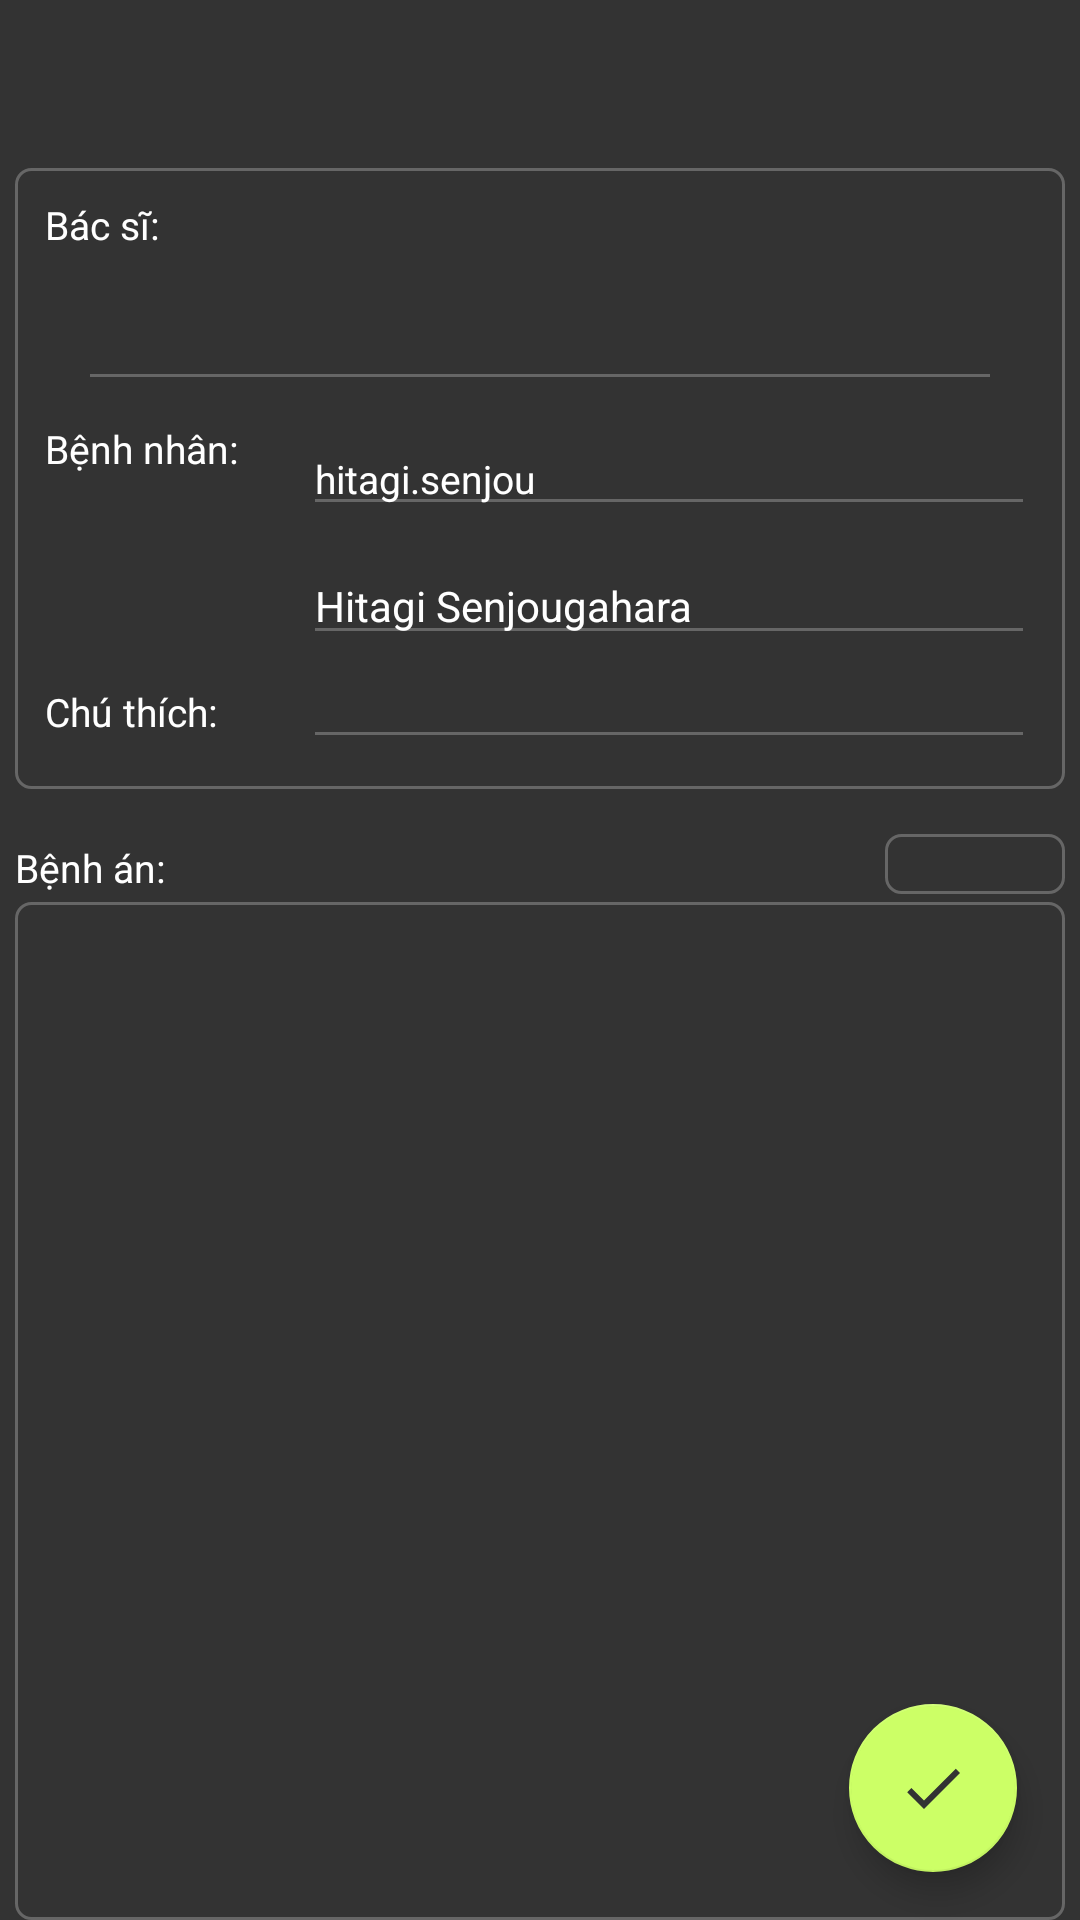

Where icons sit on this 1080×1920 app screen, as (x1, y1, x2, y2):
done: (849, 1704, 1017, 1872)
